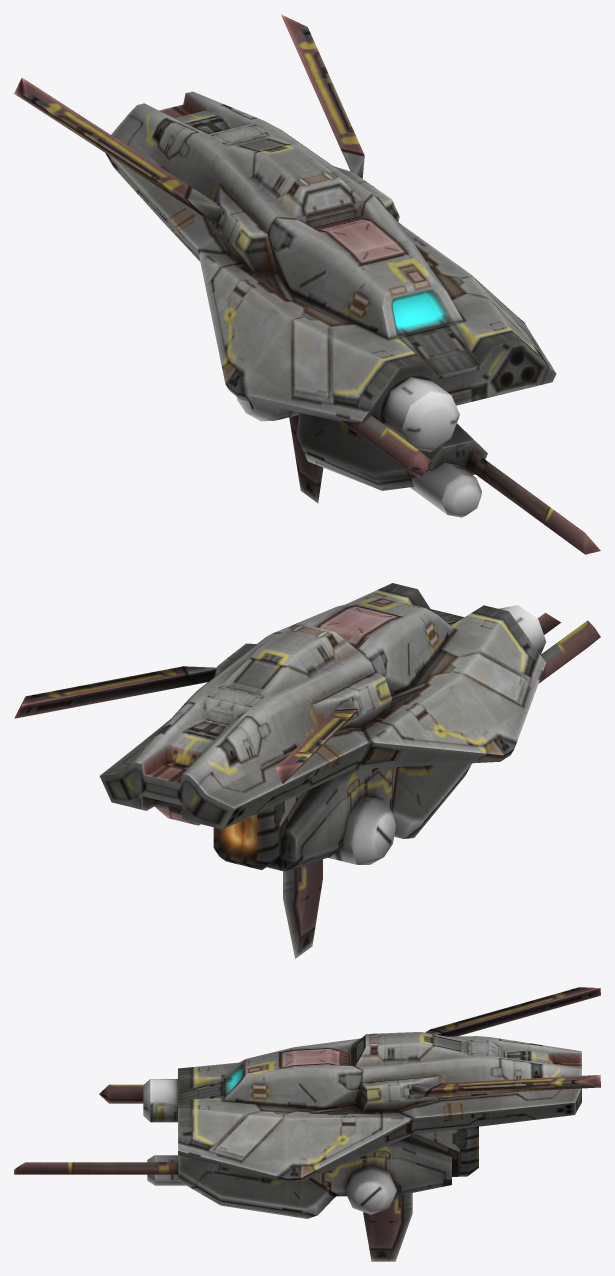
File: p1_sf_scou_01_t2.glb
The picture shows the model from 3 angles, top to bottom: view 1: azimuth 30°, elevation 25°; view 2: azimuth 150°, elevation 25°; view 3: azimuth 270°, elevation 25°; orthographic projection. The views are drawn at different scales.
Visible parts, largest first — view 1: p1_scout_01_LOD0; view 2: p1_scout_01_LOD0; view 3: p1_scout_01_LOD0.
Part boxes in pixels (x1,y1,x2,y2): p1_scout_01_LOD0: (14, 14, 600, 554); p1_scout_01_LOD0: (14, 583, 600, 958); p1_scout_01_LOD0: (14, 987, 600, 1261).
Size of what is drawn, in the model's own units: 0.1437 by 0.1597 by 0.3689.
Materials: 1 (1 with a texture image).
